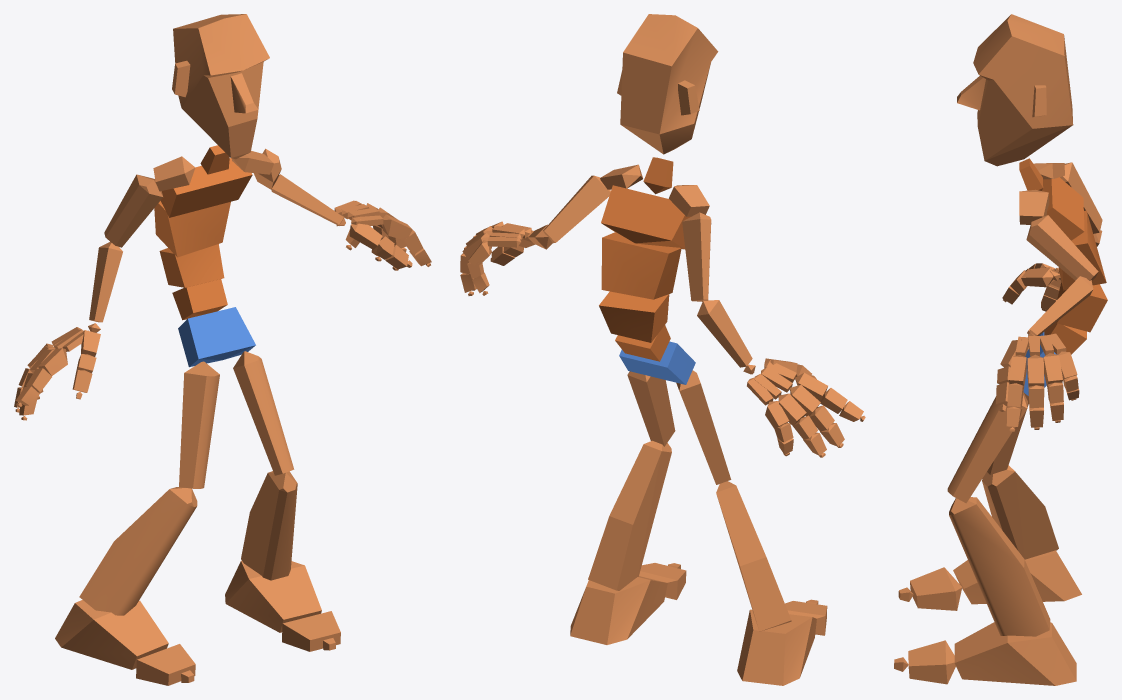
Rendered from prueba188.obj.
3 views of the same model, side by side, from view 1: azimuth 30°, elevation 25°; view 2: azimuth 150°, elevation 25°; view 3: azimuth 270°, elevation 25° (orthographic). The views are drawn at different scales.
Parts seen in each view (by area): view 1: BOPED_Head, BOPED_R_leg, BOPED_R_foot, BOPED_L_leg, BOPED_R_foot01, BOPED_R_legup, BOPED_L_legup, Bone01, Bone04, Bone05, BOPED_R_arm_upper, Bone03 (+7 smaller); view 2: BOPED_Head, BOPED_L_leg, BOPED_R_foot01, BOPED_R_leg, BOPED_R_foot, Bone04, Bone05, Bone03, BOPED_R_legup, BOPED_L_legup, BOPED_R_arm_upper, BOPED_L_arm_upper (+8 smaller); view 3: BOPED_Head, BOPED_L_leg, BOPED_R_foot01, BOPED_R_leg, BOPED_L_legup, BOPED_R_foot, BOPED_L_arm_upper, Bone05, BOPED_R_foot_toe01, BOPED_R_foot_toe04, BOPED_L_arm_fore, Bone03 (+14 smaller).
Part boxes in pixels (left/top/right/bottom): BOPED_Head: left=172, top=14, right=269, bottom=159; BOPED_R_leg: left=79, top=487, right=197, bottom=615; BOPED_R_foot: left=55, top=600, right=168, bottom=669; BOPED_L_leg: left=241, top=471, right=297, bottom=580; BOPED_R_foot01: left=225, top=560, right=321, bottom=632; BOPED_R_legup: left=179, top=361, right=219, bottom=488; BOPED_L_legup: left=233, top=351, right=294, bottom=475; Bone01: left=178, top=307, right=255, bottom=367; Bone04: left=154, top=201, right=230, bottom=257; Bone05: left=160, top=158, right=252, bottom=217; BOPED_R_arm_upper: left=104, top=174, right=162, bottom=247; Bone03: left=159, top=244, right=224, bottom=287; BOPED_Head: left=617, top=14, right=718, bottom=154; BOPED_L_leg: left=588, top=440, right=671, bottom=590; BOPED_R_foot01: left=570, top=576, right=667, bottom=644; BOPED_R_leg: left=716, top=481, right=791, bottom=631; BOPED_R_foot: left=737, top=609, right=816, bottom=685; Bone04: left=601, top=232, right=681, bottom=299; Bone05: left=601, top=185, right=690, bottom=249; Bone03: left=599, top=291, right=669, bottom=342; BOPED_R_legup: left=676, top=370, right=731, bottom=484; BOPED_L_legup: left=627, top=371, right=675, bottom=446; BOPED_R_arm_upper: left=682, top=212, right=711, bottom=301; BOPED_L_arm_upper: left=543, top=175, right=610, bottom=243; BOPED_Head: left=957, top=14, right=1073, bottom=166; BOPED_L_leg: left=949, top=497, right=1050, bottom=636; BOPED_R_foot01: left=954, top=622, right=1076, bottom=685; BOPED_R_leg: left=982, top=465, right=1058, bottom=559; BOPED_L_legup: left=947, top=392, right=1027, bottom=503; BOPED_R_foot: left=953, top=550, right=1081, bottom=604; BOPED_L_arm_upper: left=1026, top=215, right=1098, bottom=280; Bone05: left=1042, top=177, right=1084, bottom=240; BOPED_R_foot_toe01: left=910, top=567, right=962, bottom=610; BOPED_R_foot_toe04: left=908, top=640, right=955, bottom=684; BOPED_L_arm_fore: left=1027, top=276, right=1093, bottom=335; Bone03: left=1056, top=281, right=1107, bottom=332.
Size of the model in its own units: 130 by 186 by 57.81.
